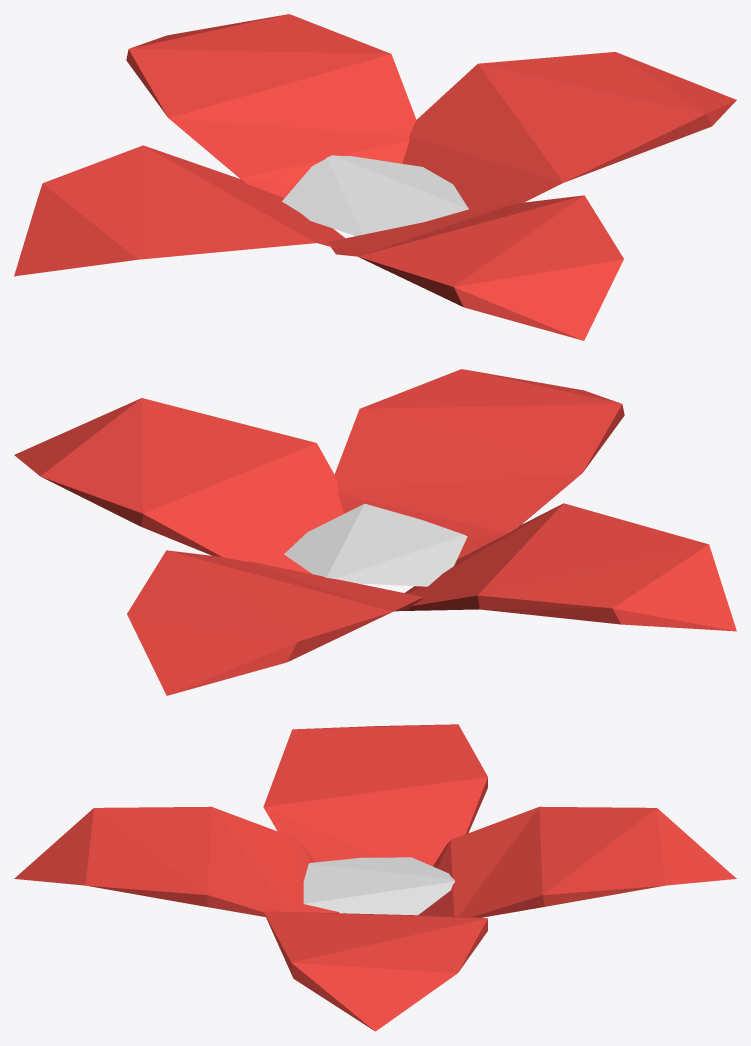
The model's file is Flower_01.fbx.
3 views of the same model, one above another, from view 1: azimuth 30°, elevation 25°; view 2: azimuth 150°, elevation 25°; view 3: azimuth 270°, elevation 25° (orthographic). The views are drawn at different scales.
Parts seen in each view (by area): view 1: Flower_01_LOD0; view 2: Flower_01_LOD0; view 3: Flower_01_LOD0.
Part boxes in pixels (<box>): Flower_01_LOD0: <box>14,14,736,340</box>; Flower_01_LOD0: <box>14,369,736,695</box>; Flower_01_LOD0: <box>14,724,736,1031</box>.
Size of what is drawn, in the model's own units: 30.44 by 3.09 by 30.44.
